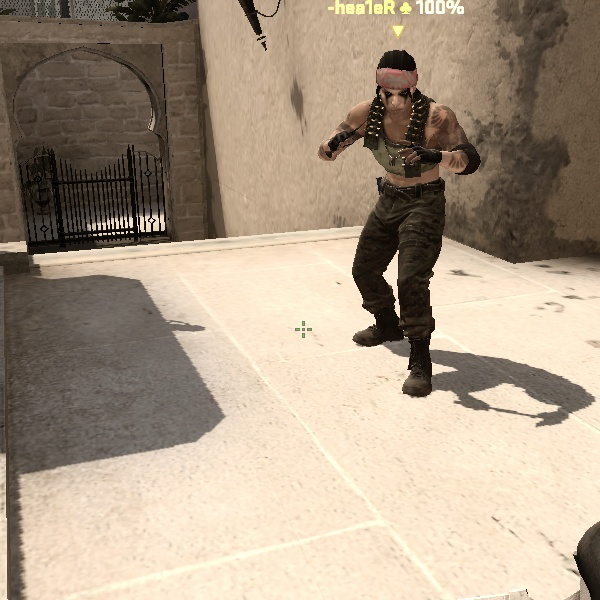t_body: (315, 41, 494, 376)
t_head: (364, 49, 431, 118)
